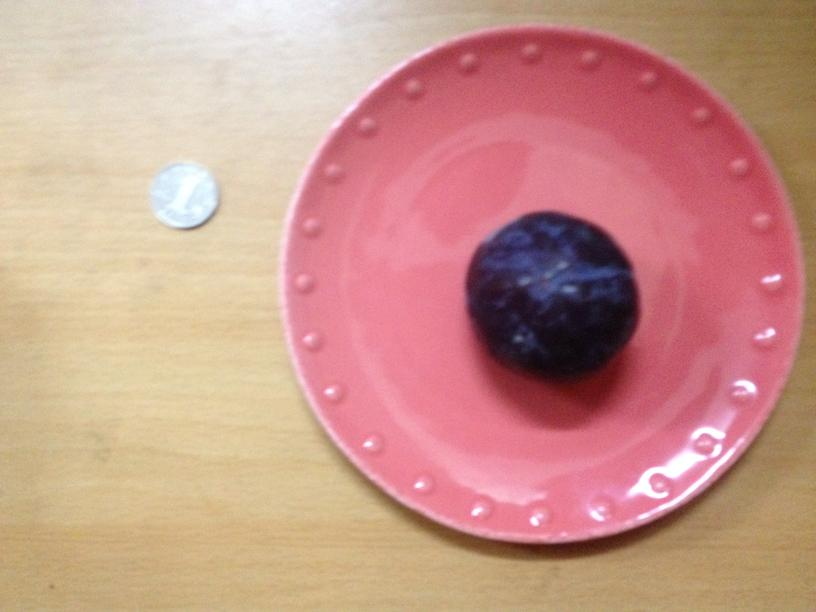coin: (147, 161, 220, 230)
plum: (468, 215, 641, 382)
